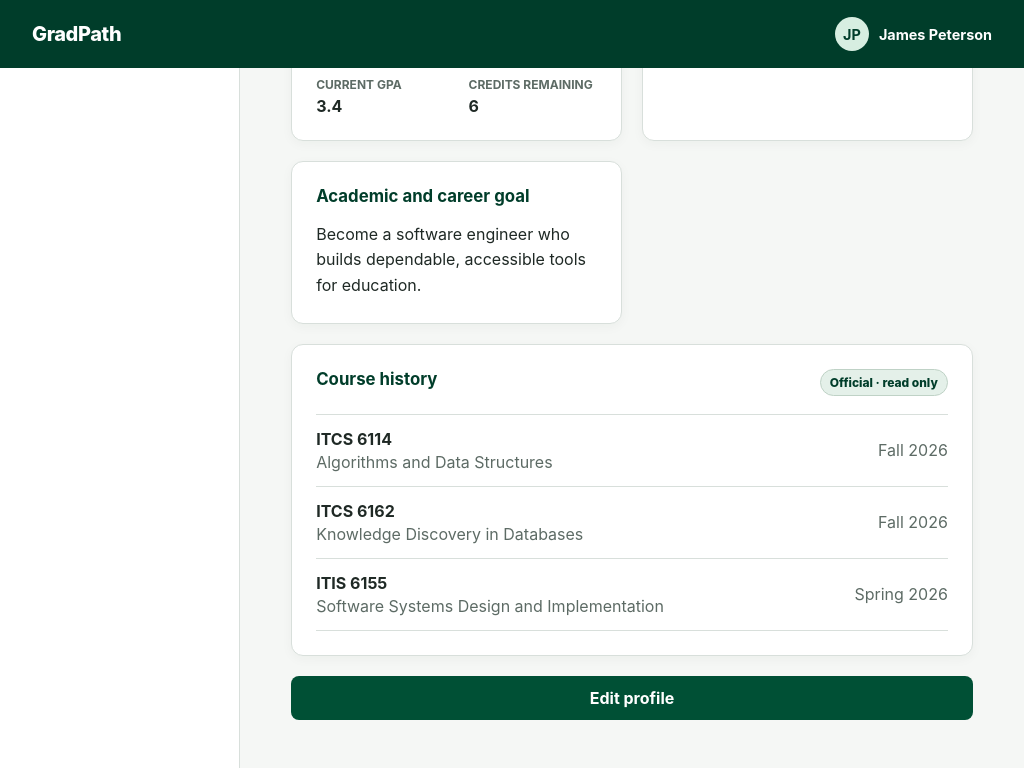
Scenario: GradPath application shell › saves profile changes, confirms success, and restores them after a refresh
The image size is (1024, 768).
Later steps or results of the test are not shown.
(page scrolled)
Click the button "Edit profile" at {"x": 632, "y": 698}, box [291,676,973,720]
(page scrolled)
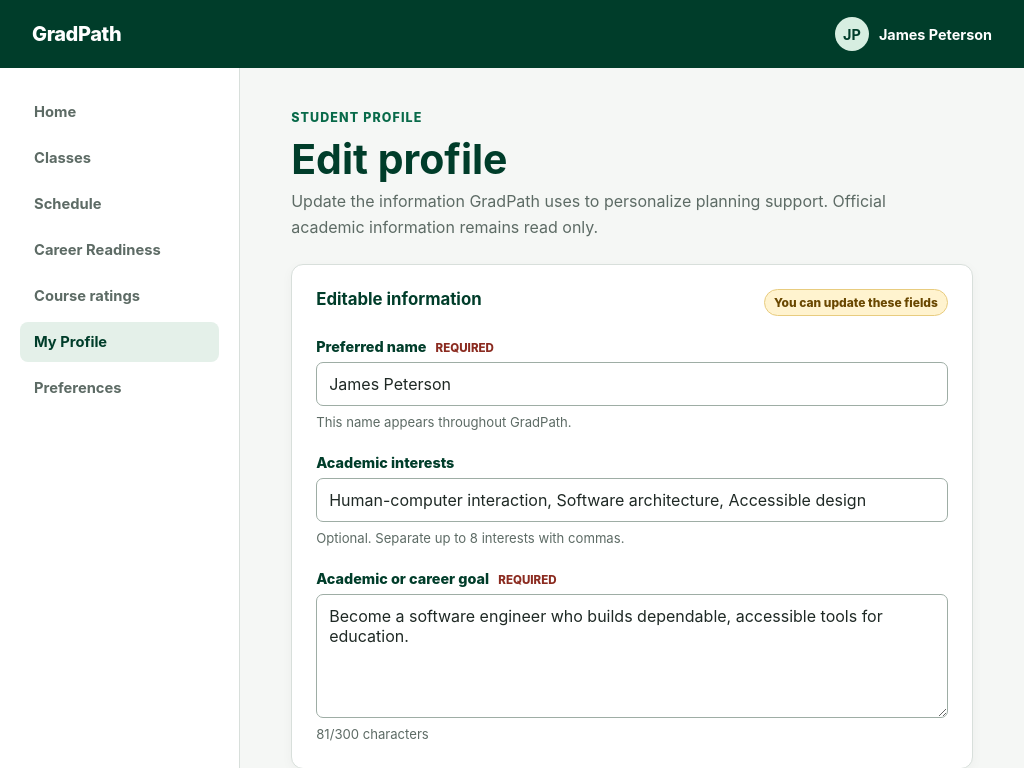
Replace the text in the field labelled "Preferred name Required" with "Jamie Peterson" at {"x": 632, "y": 384}, box [316,362,948,406]
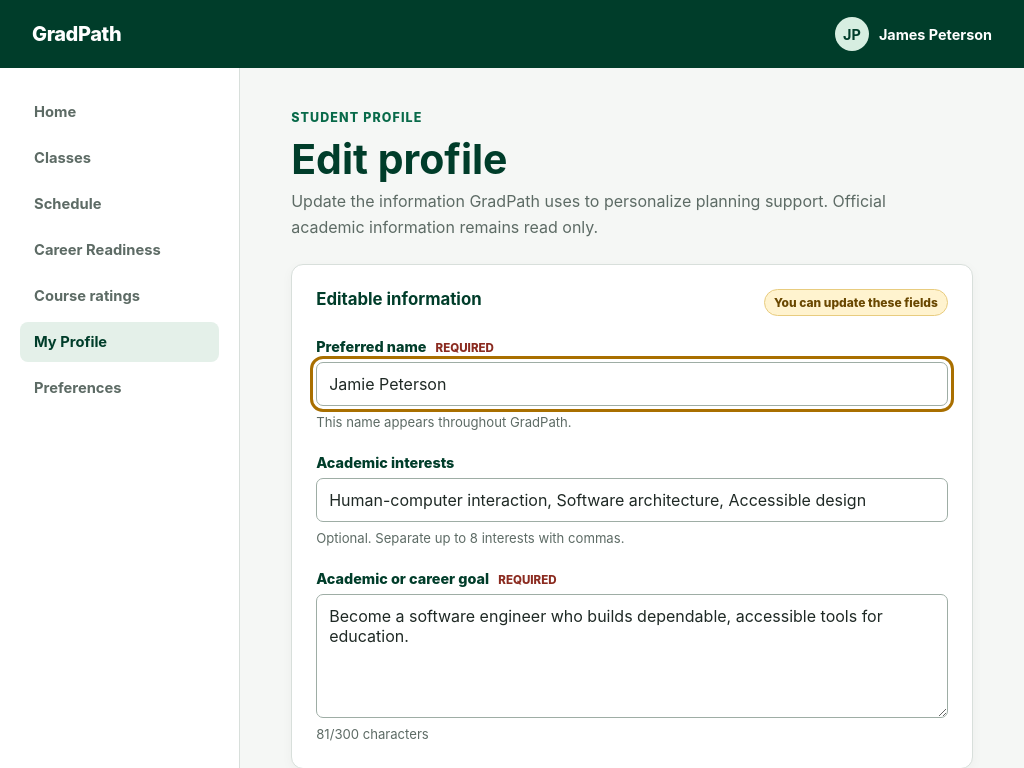
Replace the text in the field labelled "Academic interests" with "Artificial intelligence, Accessible design" at {"x": 632, "y": 500}, box [316,478,948,522]
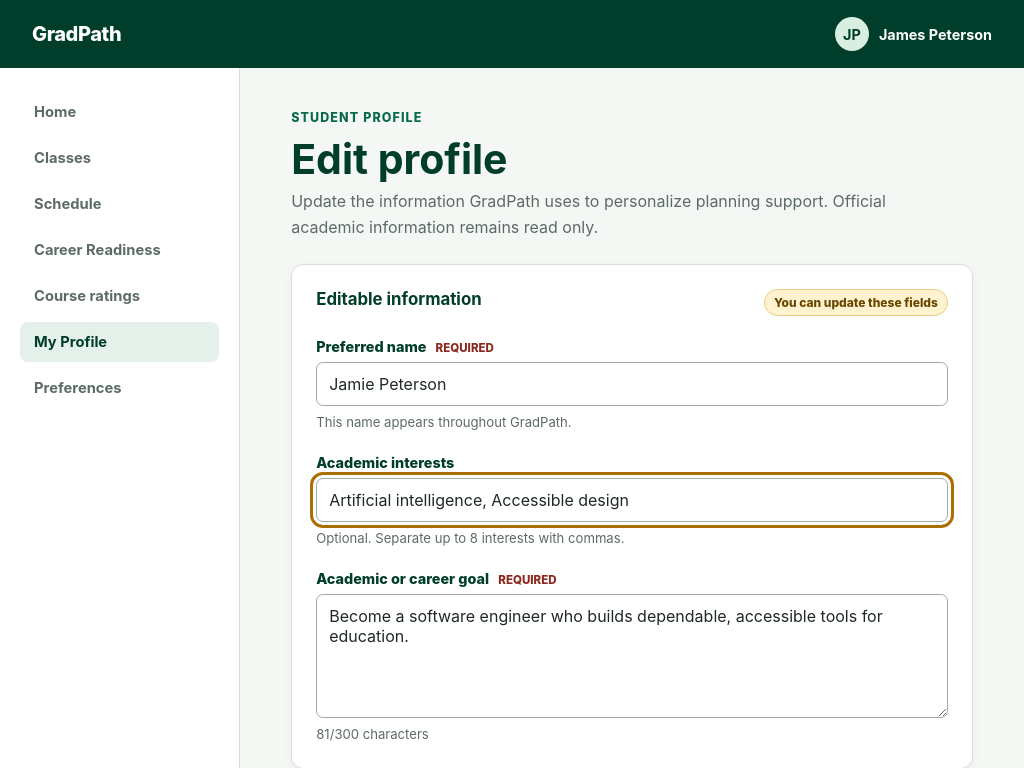
Replace the text in the text box labelled "Academic or career goal Required" with "Build accessible software for graduate students." at {"x": 632, "y": 656}, box [316,594,948,718]
(page scrolled)
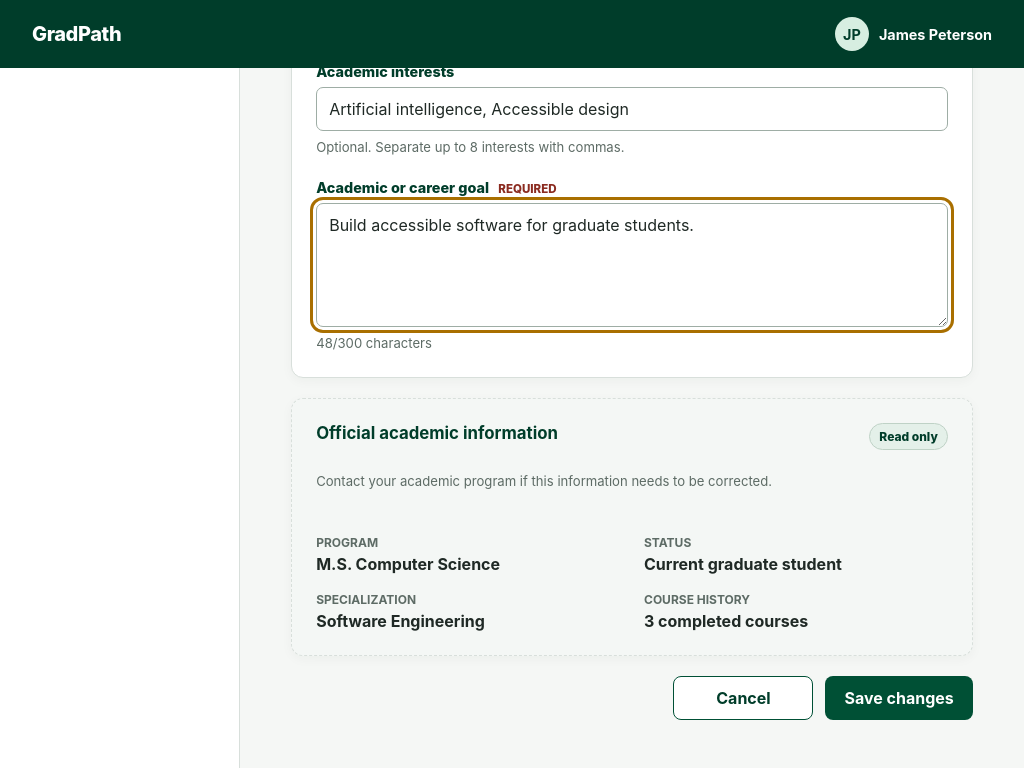
Click the button "Save changes" at {"x": 899, "y": 698}, box [826,676,973,720]
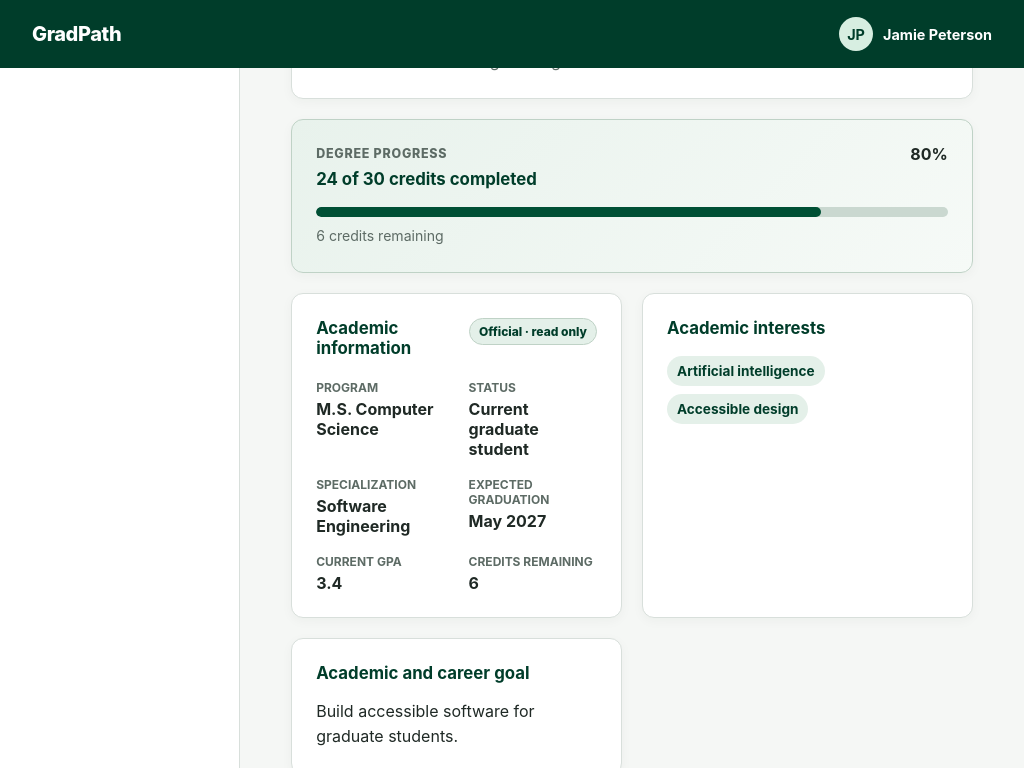
Now the list item "Artificial intelligence" is shown, box [667,356,825,386]
Now the text "Jamie Peterson" is shown, box [883,26,992,42]
